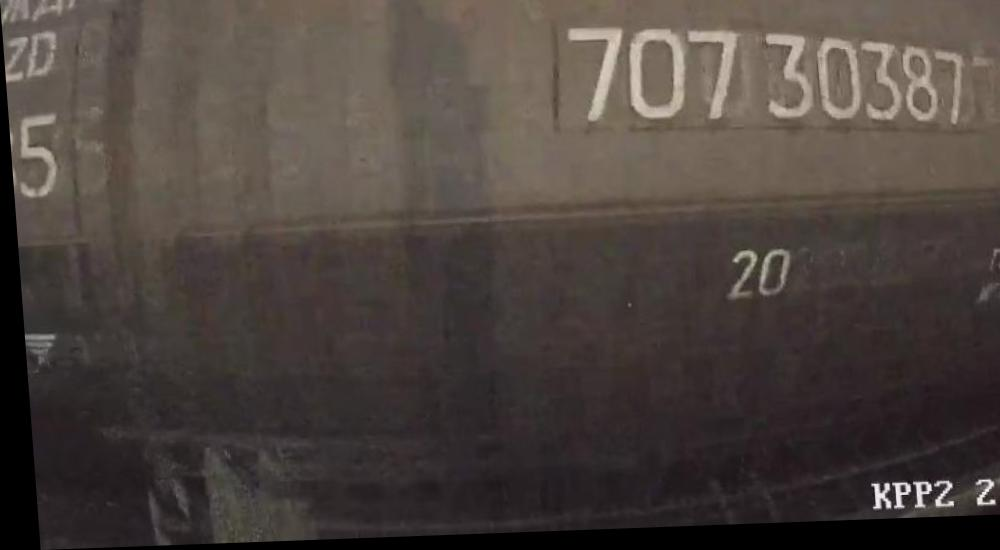Wagon-number: (559, 18, 971, 149)
